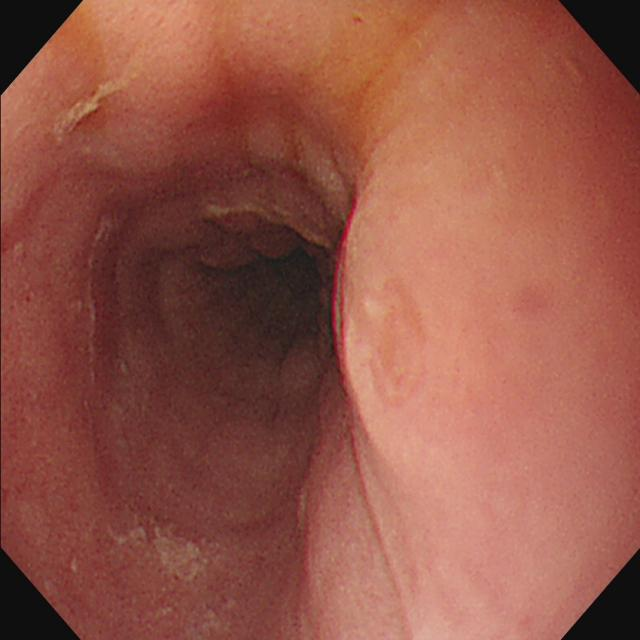E: (189, 210, 332, 367)
J: (116, 513, 207, 583), (52, 81, 125, 143)
